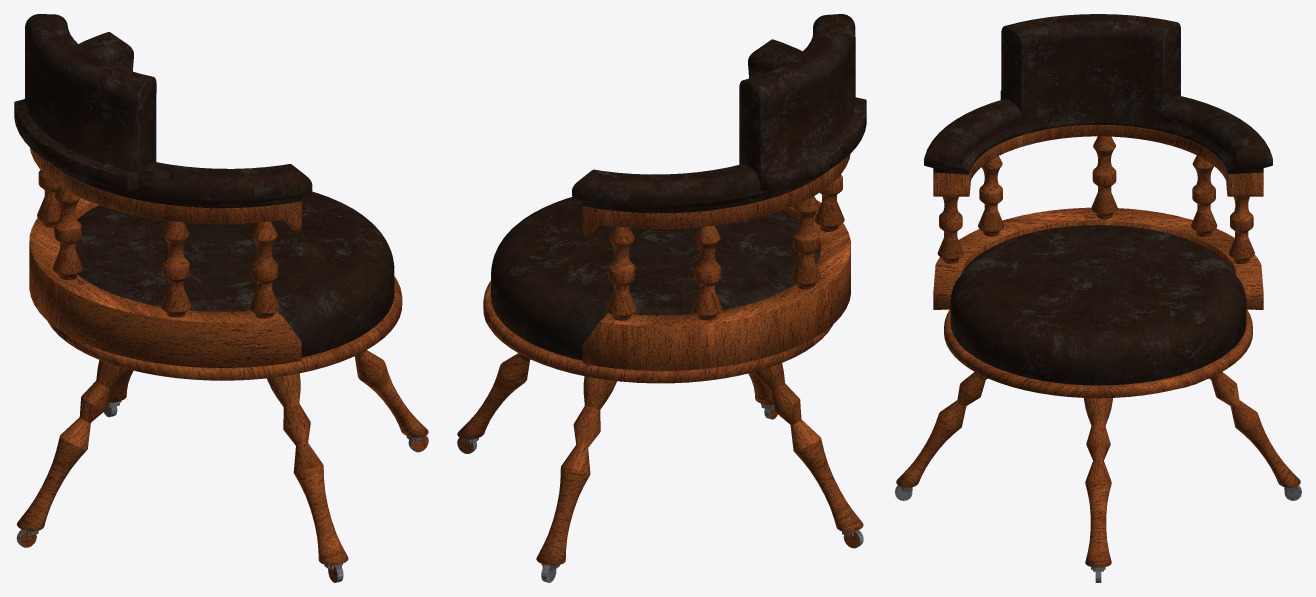
The model's file is Chair.fbx.
3 views of the same model, side by side, from view 1: azimuth 30°, elevation 25°; view 2: azimuth 150°, elevation 25°; view 3: azimuth 270°, elevation 25° (orthographic). The views are drawn at different scales.
Parts seen in each view (by area): view 1: Chair; view 2: Chair; view 3: Chair.
Boxes of the visible parts, <box> form: Chair: <box>14,14,428,582</box>; Chair: <box>457,14,866,582</box>; Chair: <box>895,14,1301,582</box>.
Bounding box in the file's own units: 252 × 286 × 252.
